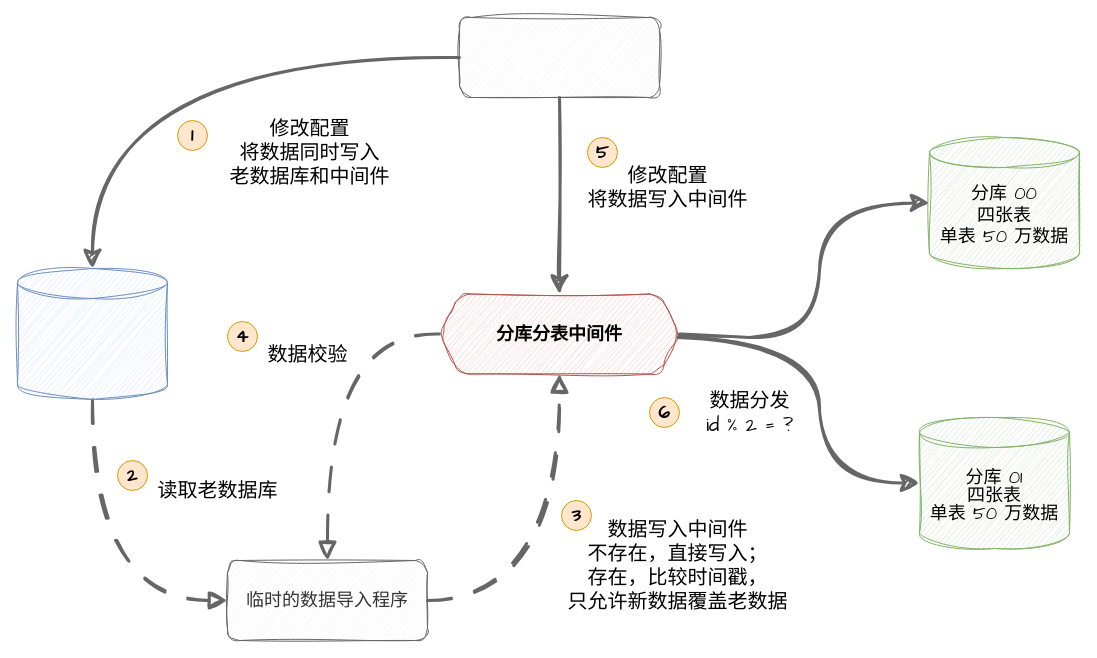
The diagram is 1097 pixels wide and 658 high, and some of its shapes have lost their labels. The shapes that lost their labels are listed below. From the top down, each one's centre as x and y in pixels, then its label:
(559,57): 应用程序 修改配置 将数据写入中间件
(92,334): 老数据库 400万数据
